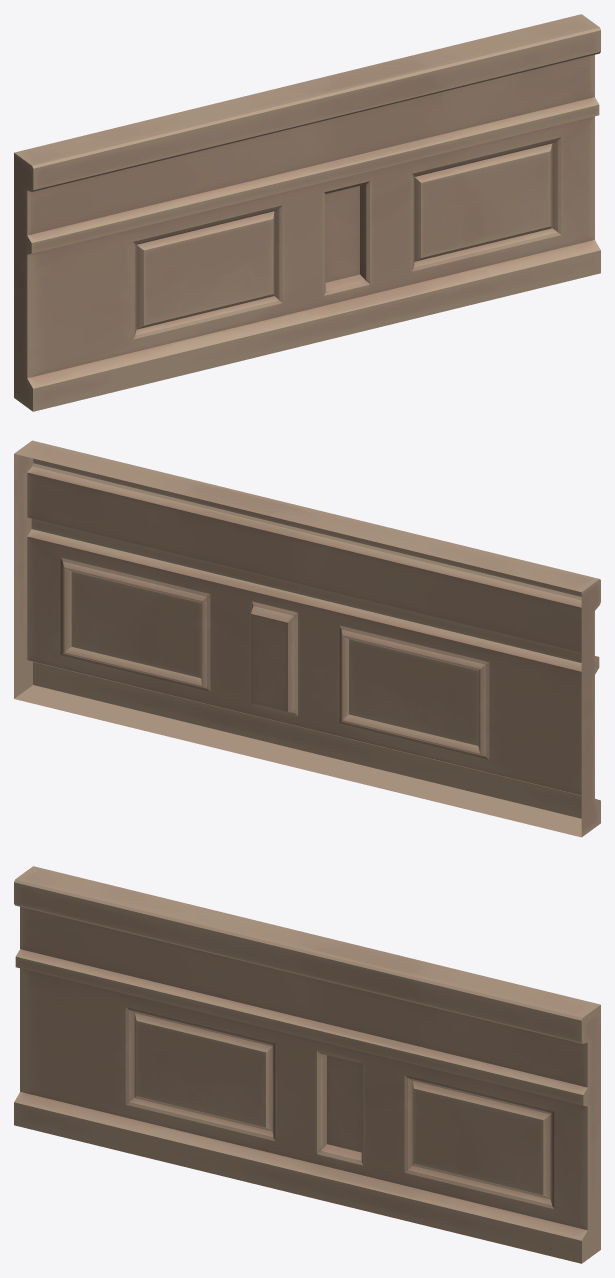
Rendered from WallPanel (5).fbx.
The picture shows the model from 3 angles, top to bottom: view 1: azimuth 30°, elevation 25°; view 2: azimuth 150°, elevation 25°; view 3: azimuth 330°, elevation 25°; orthographic projection.
Visible parts, largest first — view 1: WallPanel (5); view 2: WallPanel (5); view 3: WallPanel (5).
Boxes of the visible parts, x1=… form: WallPanel (5): x1=14, y1=14, x2=600, y2=411; WallPanel (5): x1=14, y1=440, x2=600, y2=837; WallPanel (5): x1=14, y1=866, x2=600, y2=1263.
Bounding box in the file's own units: 917 × 378 × 53.95.
